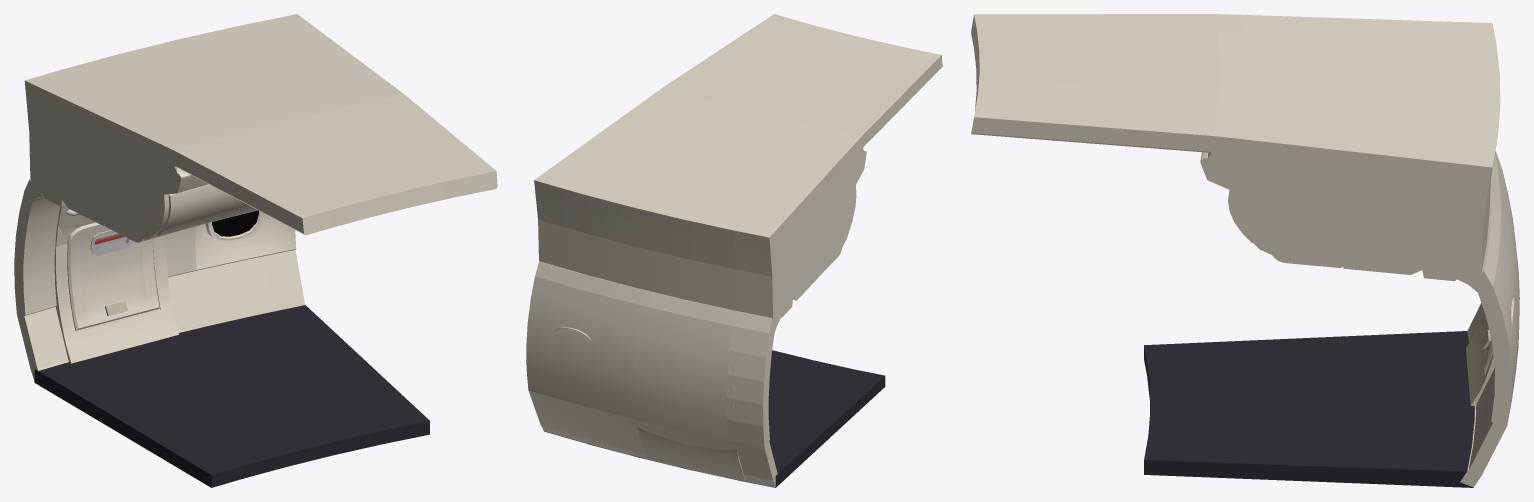
The model's file is air_escapecurved.fbx.
The picture shows the model from 3 angles, left to right: view 1: azimuth 30°, elevation 25°; view 2: azimuth 150°, elevation 25°; view 3: azimuth 270°, elevation 25°; orthographic projection. The views are drawn at different scales.
Parts seen in each view (by area): view 1: overhead, floor, airplanesection_escape, pCube46, escape_door, pCube42, window1, pCube47; view 2: overhead, airplanesection_escape, floor, escape_door; view 3: overhead, floor, airplanesection_escape, escape_door.
Boxes of the visible parts, x1,y1,x2,y2 form: overhead: [24, 14, 497, 242]; floor: [34, 305, 429, 487]; airplanesection_escape: [14, 179, 305, 381]; pCube46: [64, 222, 159, 331]; escape_door: [54, 205, 178, 363]; pCube42: [157, 184, 256, 236]; window1: [205, 210, 264, 242]; pCube47: [90, 230, 132, 255]; overhead: [534, 14, 942, 318]; airplanesection_escape: [526, 261, 780, 487]; floor: [544, 350, 885, 487]; escape_door: [633, 339, 745, 480]; overhead: [971, 14, 1500, 281]; floor: [1144, 331, 1474, 487]; airplanesection_escape: [1457, 151, 1519, 487]; escape_door: [1466, 201, 1519, 405].
Size of the model in its own units: 5.38 by 6.08 by 8.6.
